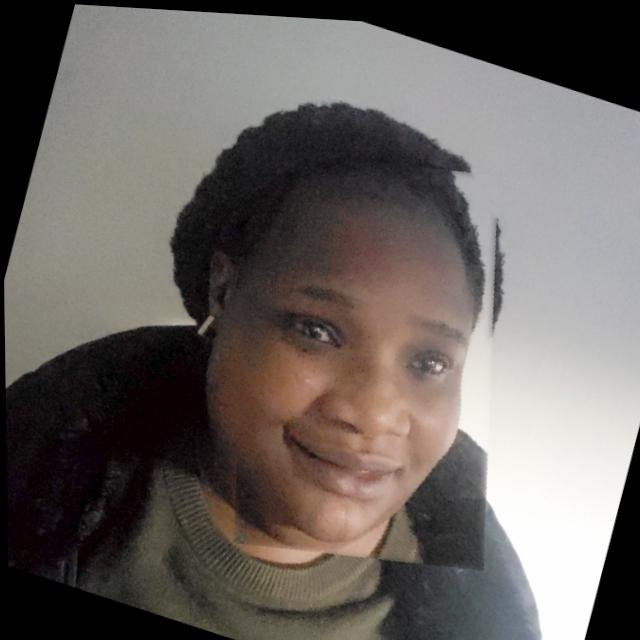happy: (169, 106, 561, 603)
